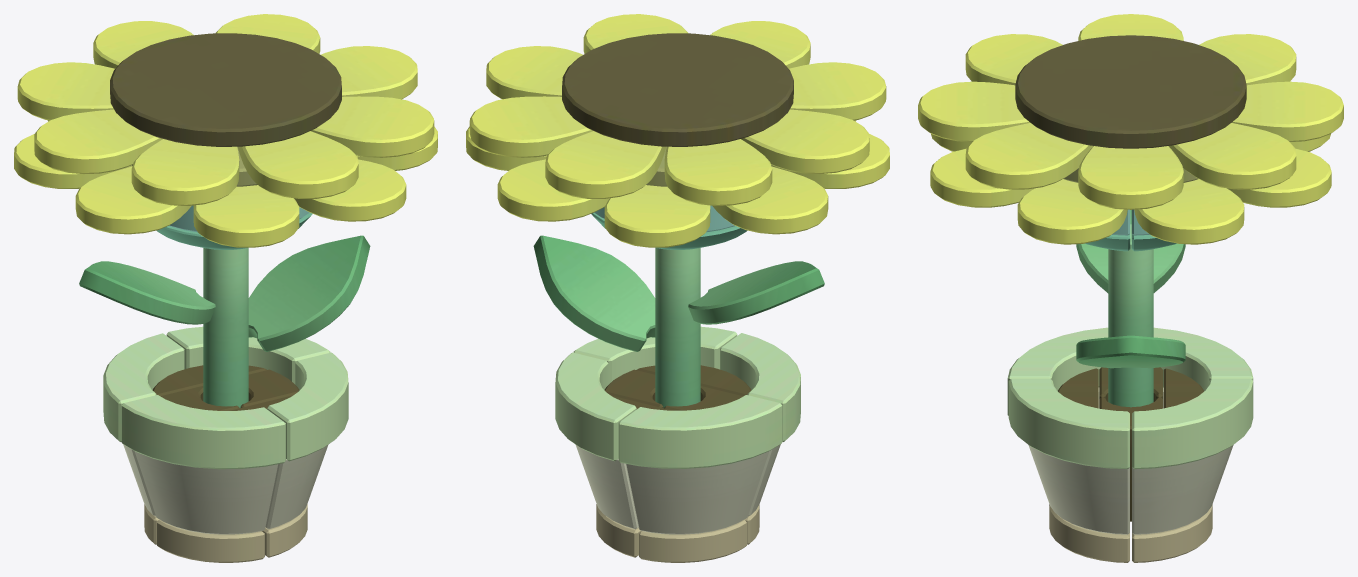
File: level_178.fbx
3 views of the same model, side by side, from view 1: azimuth 30°, elevation 25°; view 2: azimuth 150°, elevation 25°; view 3: azimuth 270°, elevation 25° (orthographic).
Parts seen in each view (by area): view 1: Cube_L1_12, Cube_L3.002, Cube_L2_2.002, Cube_L3_3.002, Cube_L2_1.002, Cube_L1_11, Cube_L1_3.002, Cube_L1.002, Cube_L3_14, Cube_L1_24, Cube_L1_5.002, Cube_L2.002 (+18 smaller); view 2: Cube_L1_12, Cube_L3_1.002, Cube_L2_2.002, Cube_L3_2.002, Cube_L2_1.002, Cube_L1_13, Cube_L1_4.002, Cube_L1.002, Cube_L3_15, Cube_L1_23, Cube_L1_6.001, Cube_L2.002 (+18 smaller); view 3: Cube_L1_12, Cube_L3_14, Cube_L3_15, Cube_L1_23, Cube_L1_24, Cube_L1_27, Cube_L2_1.002, Cube_L3_12, Cube_L3_13, Cube_L1_11, Cube_L1_13, Cube_L1_25 (+16 smaller).
Part boxes in pixels (<box>): Cube_L1_12: <box>110,33,341,146</box>; Cube_L3.002: <box>121,395,285,469</box>; Cube_L2_2.002: <box>248,235,370,351</box>; Cube_L3_3.002: <box>134,451,277,534</box>; Cube_L2_1.002: <box>203,248,248,407</box>; Cube_L1_11: <box>237,131,358,198</box>; Cube_L1_3.002: <box>131,139,239,205</box>; Cube_L1.002: <box>34,109,162,173</box>; Cube_L3_14: <box>267,352,348,461</box>; Cube_L1_24: <box>311,96,434,157</box>; Cube_L1_5.002: <box>193,185,299,247</box>; Cube_L2.002: <box>79,261,215,324</box>; Cube_L1_12: <box>562,33,793,146</box>; Cube_L3_1.002: <box>618,395,782,468</box>; Cube_L2_2.002: <box>533,235,655,351</box>; Cube_L3_2.002: <box>625,451,769,534</box>; Cube_L2_1.002: <box>655,248,700,408</box>; Cube_L1_13: <box>545,131,666,198</box>; Cube_L1_4.002: <box>664,139,772,205</box>; Cube_L1.002: <box>741,109,869,173</box>; Cube_L3_15: <box>555,352,636,461</box>; Cube_L1_23: <box>469,96,592,157</box>; Cube_L1_6.001: <box>604,185,710,247</box>; Cube_L2.002: <box>688,261,824,324</box>; Cube_L1_12: <box>1015,35,1246,148</box>; Cube_L3_14: <box>1008,378,1129,469</box>; Cube_L3_15: <box>1132,378,1253,469</box>; Cube_L1_23: <box>1169,123,1296,189</box>; Cube_L1_24: <box>965,123,1092,189</box>; Cube_L1_27: <box>1078,146,1183,209</box>; Cube_L2_1.002: <box>1108,224,1153,407</box>; Cube_L3_12: <box>1132,445,1233,534</box>; Cube_L3_13: <box>1028,445,1129,534</box>; Cube_L1_11: <box>918,81,1030,141</box>; Cube_L1_13: <box>1231,81,1343,141</box>; Cube_L1_25: <box>1017,179,1127,244</box>.
Size of the model in its own units: 16.98 by 19.64 by 16.98.
